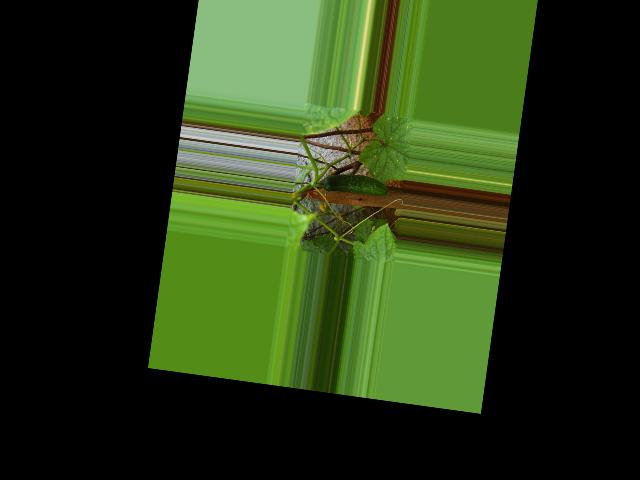cucumber: (321, 170, 389, 199)
